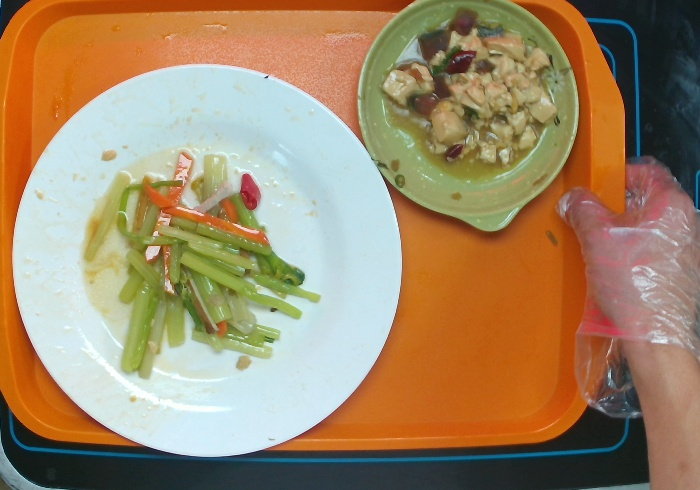NLDX-Da_Yuan_Pan: (5, 60, 410, 467)
NLDX-Lv_Hua_Shuang_Er_Die: (351, 1, 584, 239)
